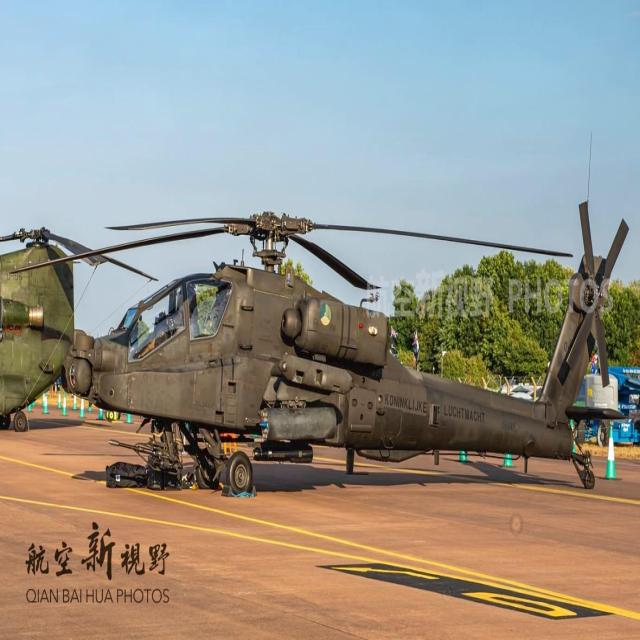MIL_HELO: (56, 182, 640, 522)
